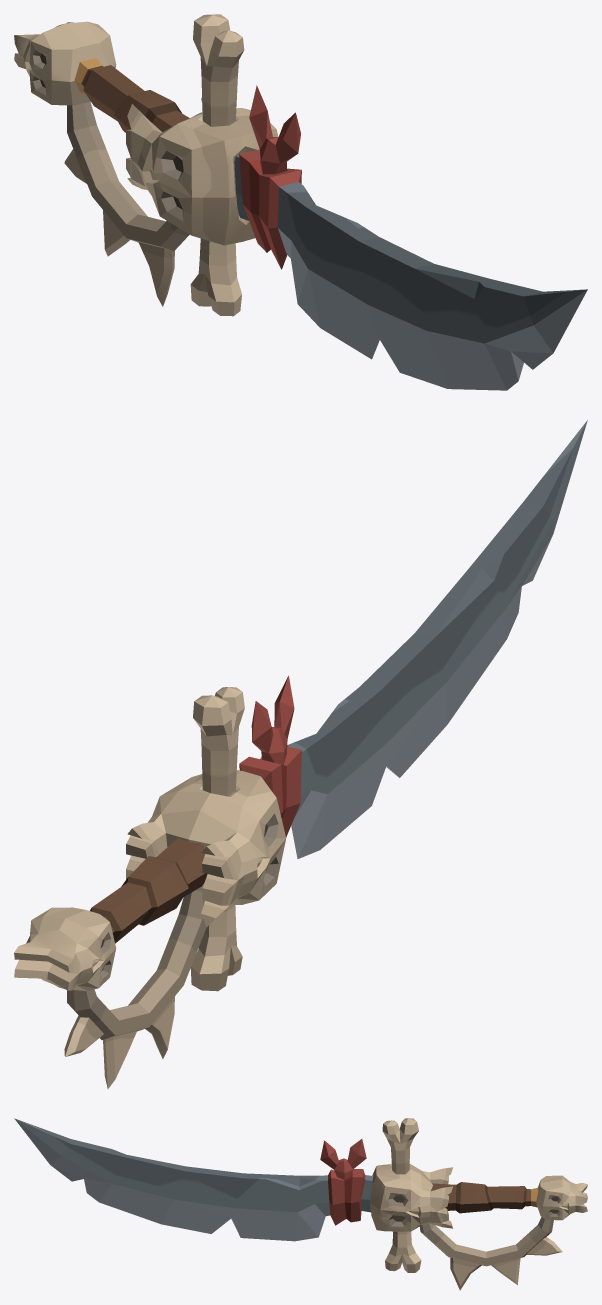
Rendered from SM_Wep_Sword_01.fbx.
3 views of the same model, one above another, from view 1: azimuth 30°, elevation 25°; view 2: azimuth 150°, elevation 25°; view 3: azimuth 270°, elevation 25° (orthographic). The views are drawn at different scales.
Parts seen in each view (by area): view 1: SM_Wep_Sword_01; view 2: SM_Wep_Sword_01; view 3: SM_Wep_Sword_01.
Part boxes in pixels (x1,y1,x2,y2): SM_Wep_Sword_01: (14,14,587,390); SM_Wep_Sword_01: (14,420,587,1088); SM_Wep_Sword_01: (14,1118,587,1290).
Size of the model in its own units: 17.03 by 46.44 by 140.
